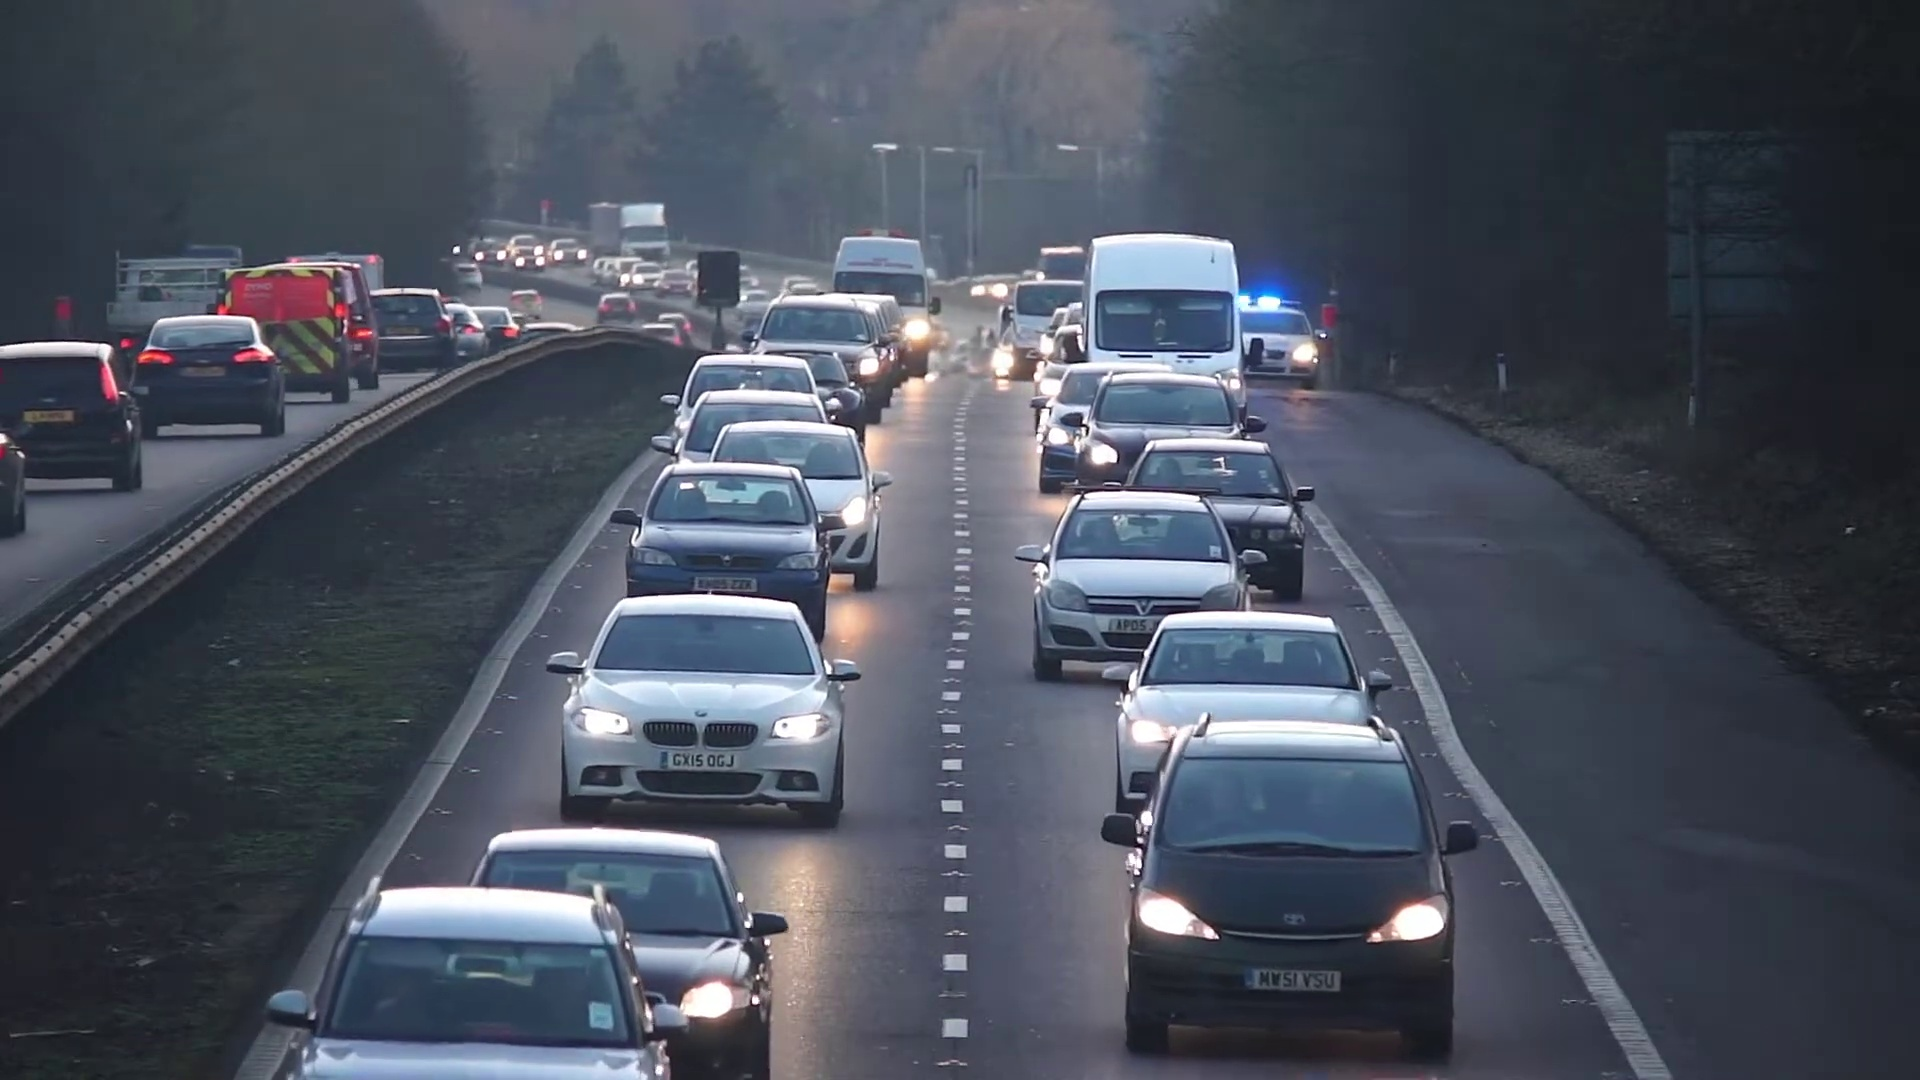license_plate: (1248, 966, 1342, 995), (660, 751, 742, 772), (691, 572, 759, 595), (1104, 616, 1151, 633)
